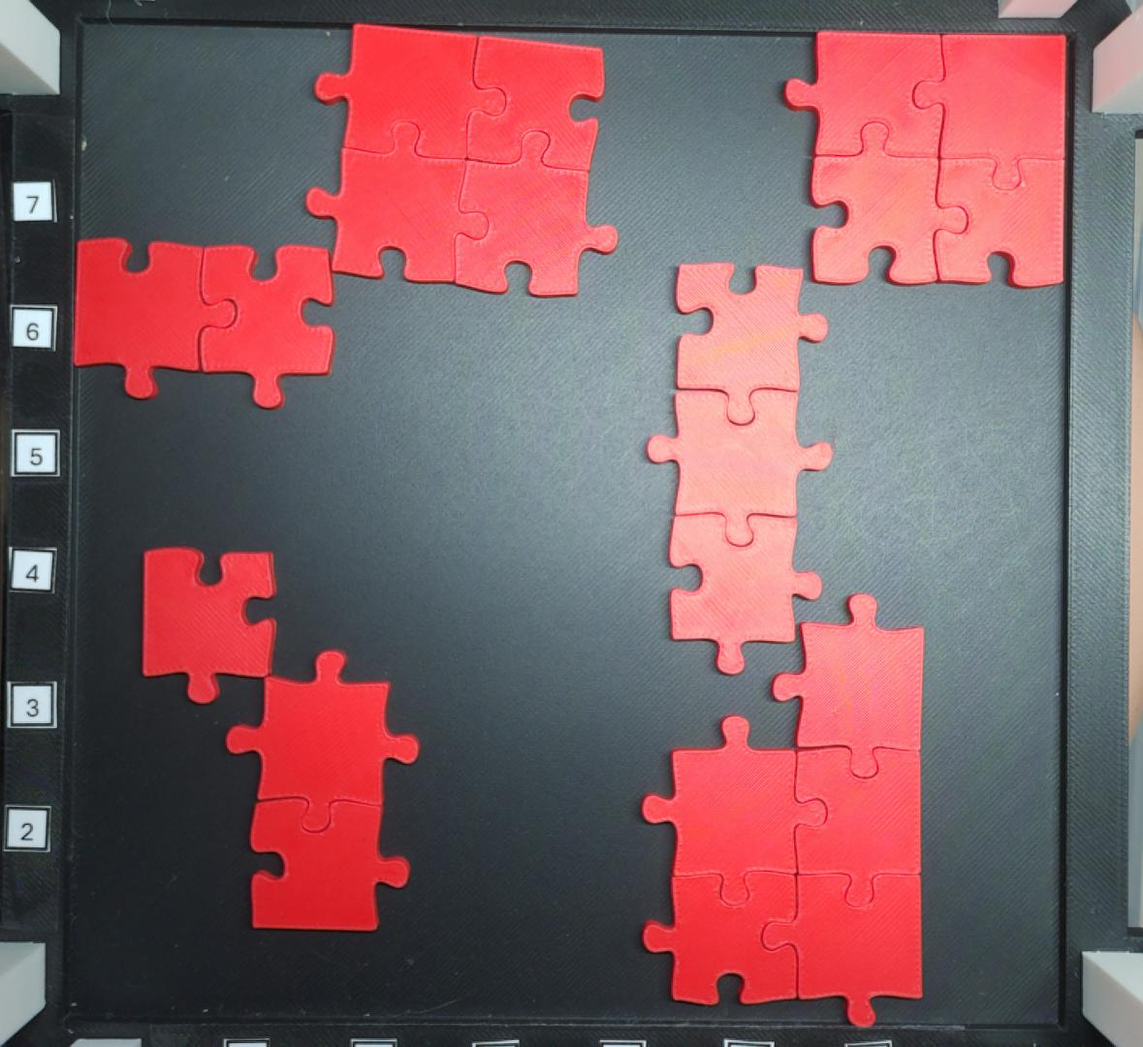p_1: (140, 548, 278, 704)
p_2: (226, 650, 420, 932), (70, 234, 335, 408)
p_3: (646, 261, 835, 676)
p_4: (303, 23, 619, 298), (782, 31, 1065, 290)
p_m: (642, 593, 924, 1029)
